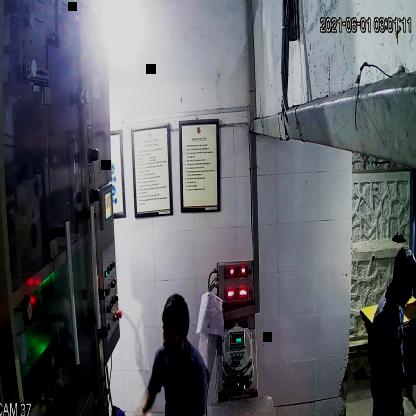no_goggles: (159, 323, 189, 346)
